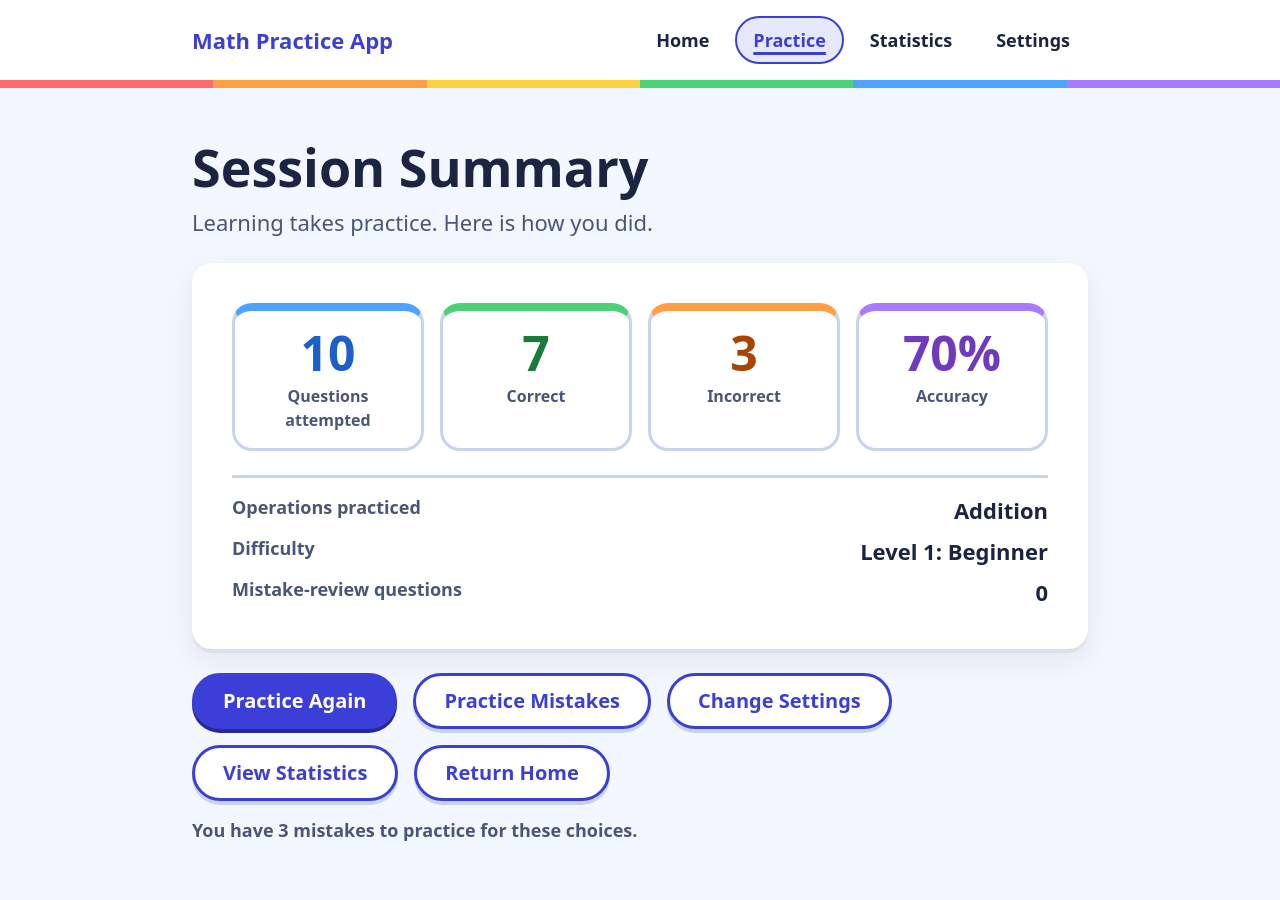
Test: SessionSummaryPage › actions › Return Home goes to the home page
Click the link "Return Home".
click(512, 773)  # box [414,745,610,801]
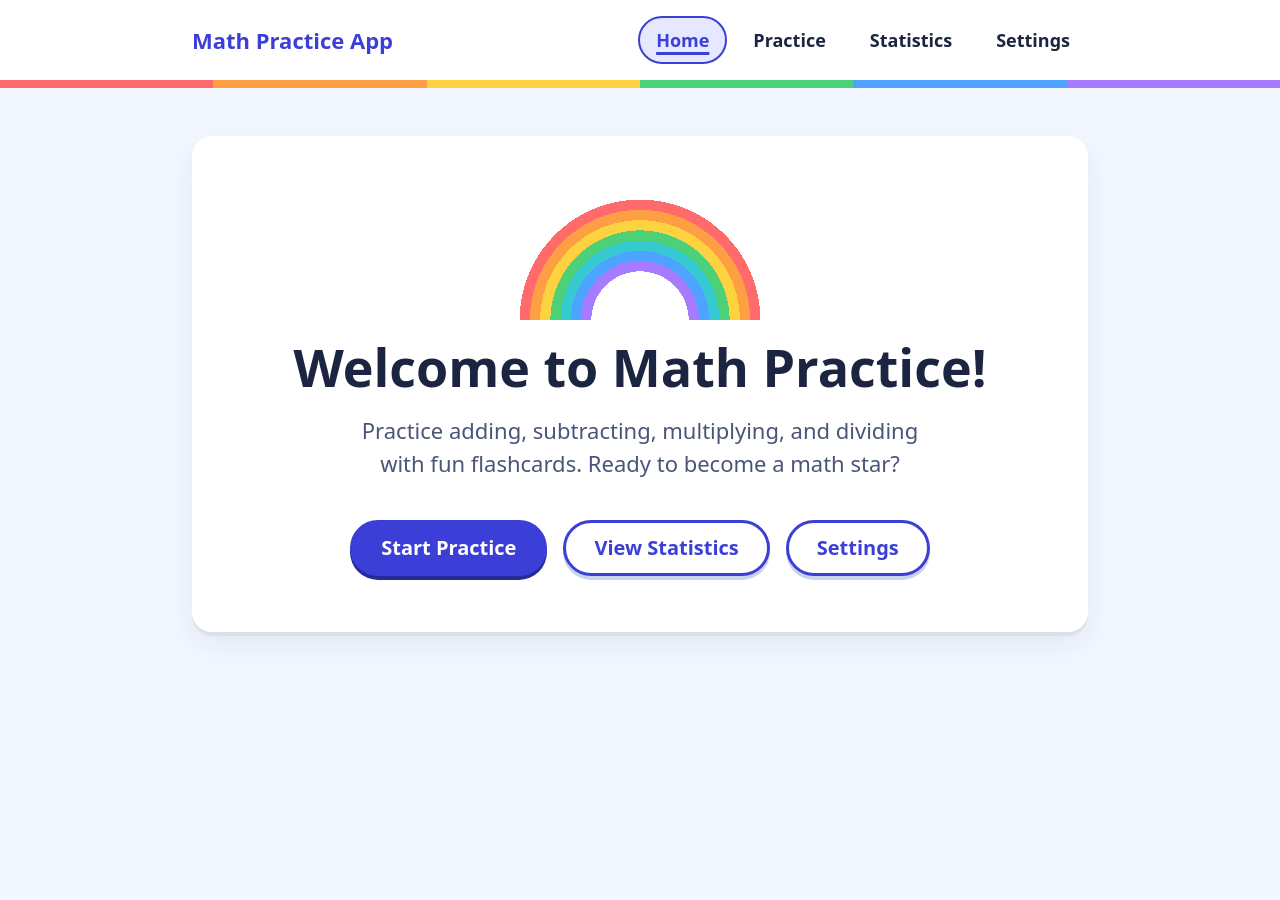
Expected: the heading "Welcome to Math Practice!" is shown, [248,336,1032,398]
